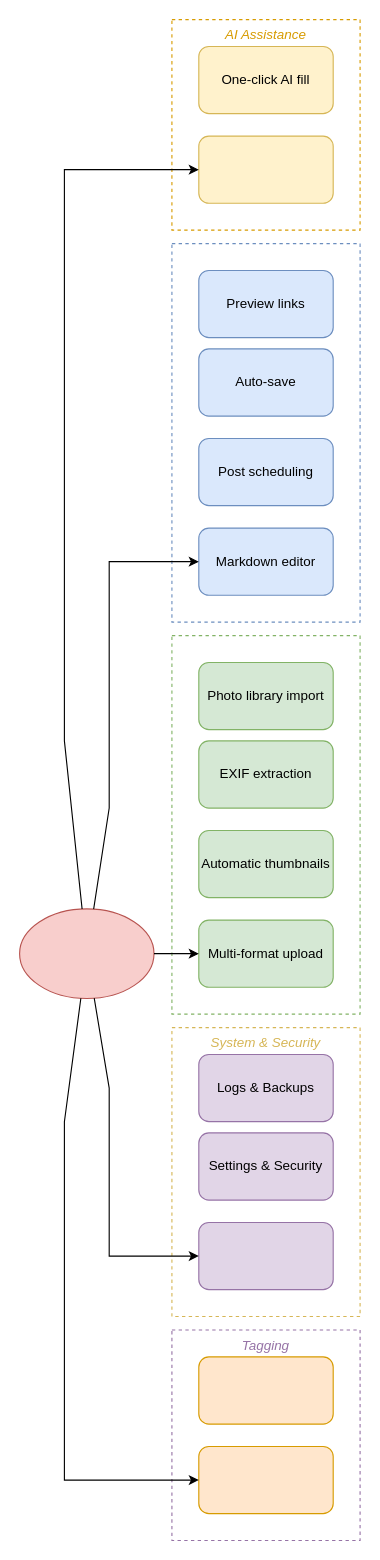
The diagram is 380 pixels wide and 1560 high, and some of its shapes have lost their labels. Here are the shapes that lost their labels. From the top down, the box of each, then its label:
(198, 135, 333, 203): Gemini image analysis
(171, 242, 360, 622): Content & Publishing
(171, 634, 360, 1014): Media Management
(18, 908, 154, 998): Admin Panel
(198, 1221, 333, 1290): Dashboard stats
(198, 1356, 333, 1424): Tag visibility control
(198, 1445, 333, 1514): Hierarchical tags
